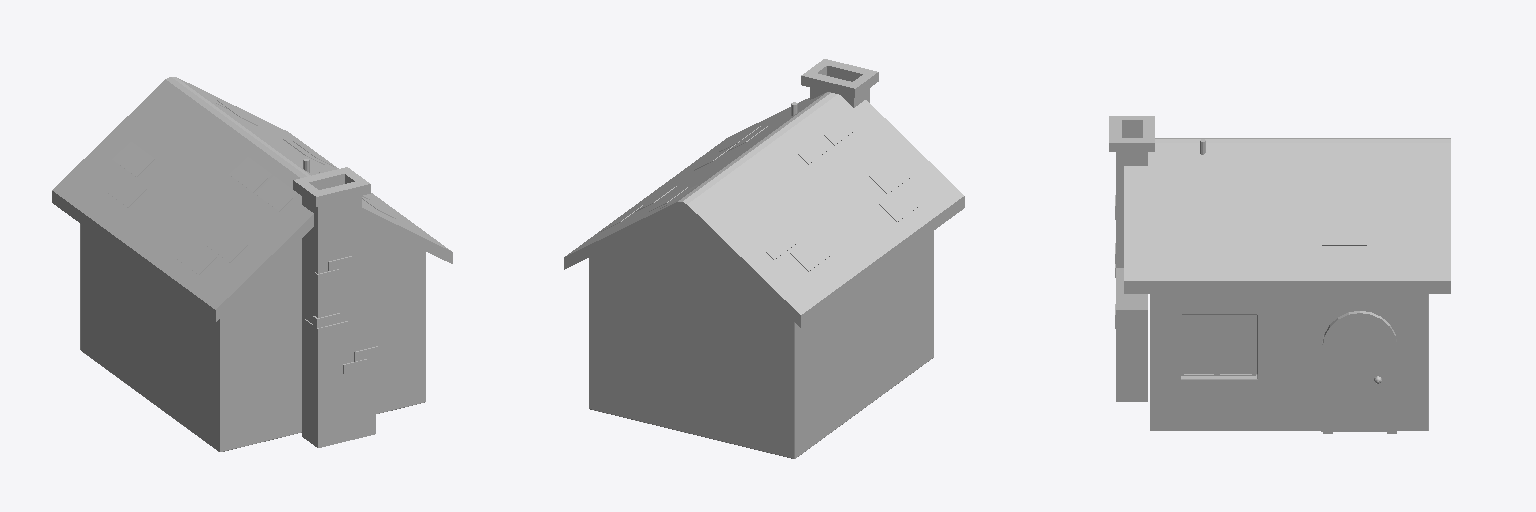
The model's file is house.obj.
3 renders of one model, left to right at view 1: azimuth 30°, elevation 25°; view 2: azimuth 150°, elevation 25°; view 3: azimuth 270°, elevation 25°, orthographic.
Visible parts, largest first — view 1: House_Frame_Plane.001; view 2: House_Frame_Plane.001; view 3: House_Frame_Plane.001.
Boxes of the visible parts, <box> form: House_Frame_Plane.001: <box>52,77,452,451</box>; House_Frame_Plane.001: <box>564,59,964,458</box>; House_Frame_Plane.001: <box>1109,116,1450,433</box>.
Size of the model in its own units: 4.25 by 4.37 by 5.31.